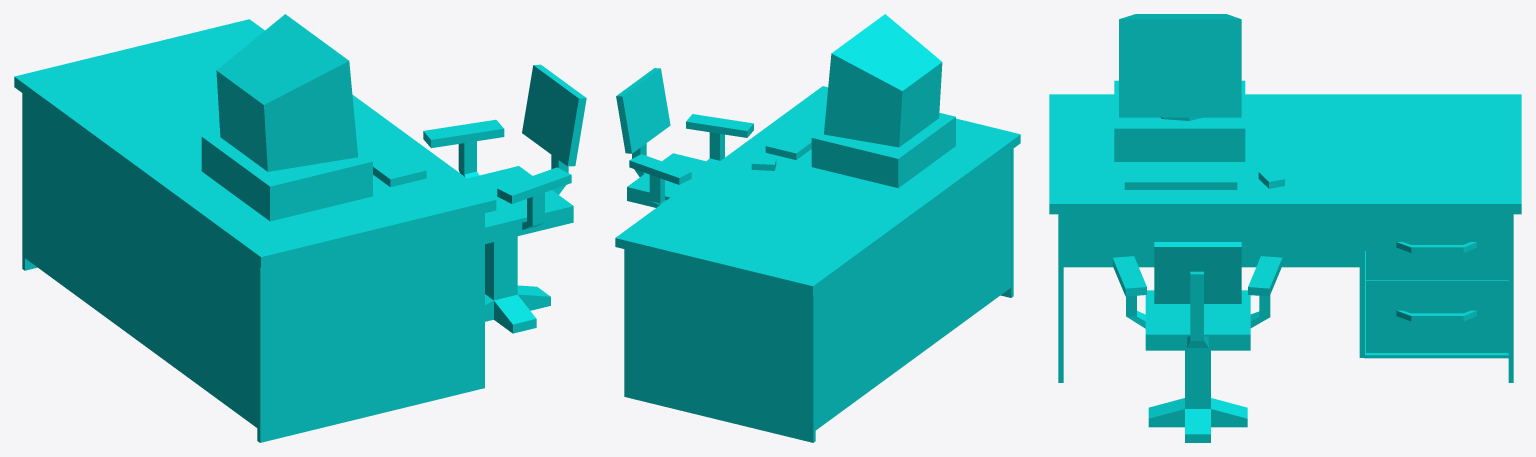
Rendered from pc_desk.fbx.
3 renders of one model, left to right at view 1: azimuth 30°, elevation 25°; view 2: azimuth 150°, elevation 25°; view 3: azimuth 270°, elevation 25°, orthographic. The views are drawn at different scales.
Visible parts, largest first — view 1: pc_set_desk; view 2: pc_set_desk; view 3: pc_set_desk.
Part boxes in pixels (left/top/right/bottom): pc_set_desk: left=14, top=14, right=586, bottom=442; pc_set_desk: left=615, top=14, right=1020, bottom=442; pc_set_desk: left=1049, top=14, right=1521, bottom=442.
Size of the model in its own units: 9.63 by 7.95 by 10.8.
